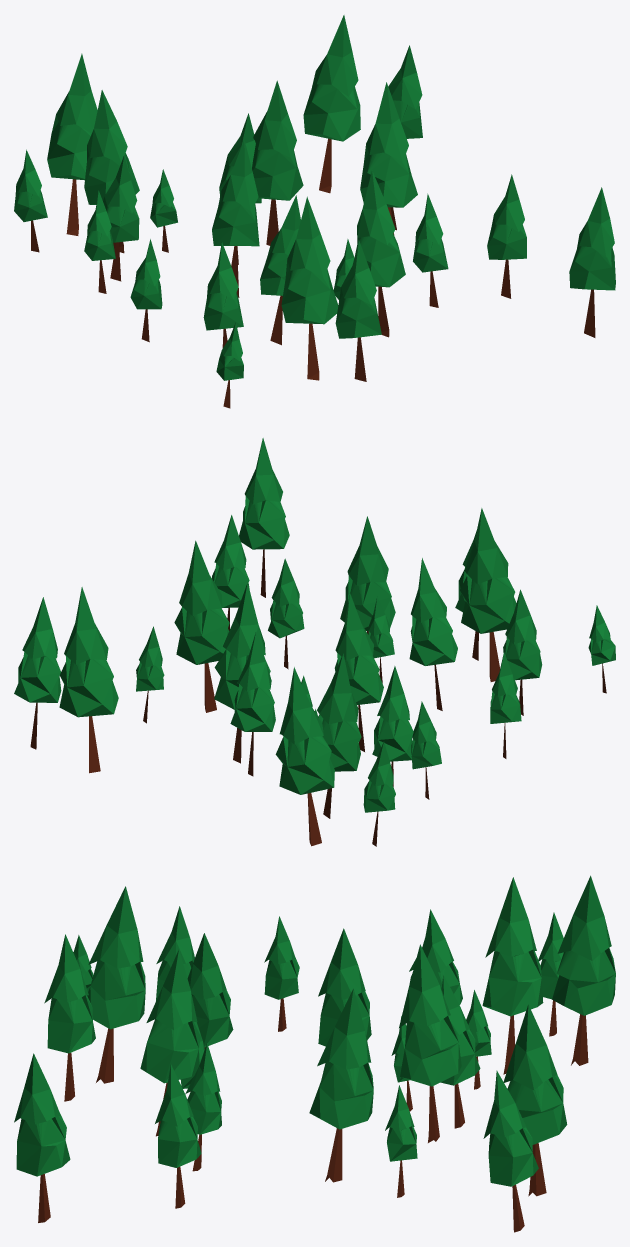
The model's file is wald_low.fbx.
3 renders of one model, top to bottom at view 1: azimuth 30°, elevation 25°; view 2: azimuth 150°, elevation 25°; view 3: azimuth 270°, elevation 25°, orthographic. The views are drawn at different scales.
Visible parts, largest first — view 1: wald.low; view 2: wald.low; view 3: wald.low.
Part boxes in pixels (box(x1,y1,x2,y2)): wald.low: box(14, 15, 615, 408); wald.low: box(14, 438, 615, 846); wald.low: box(14, 875, 615, 1232).
Bounding box in the file's own units: 5102 × 2188 × 5966.
